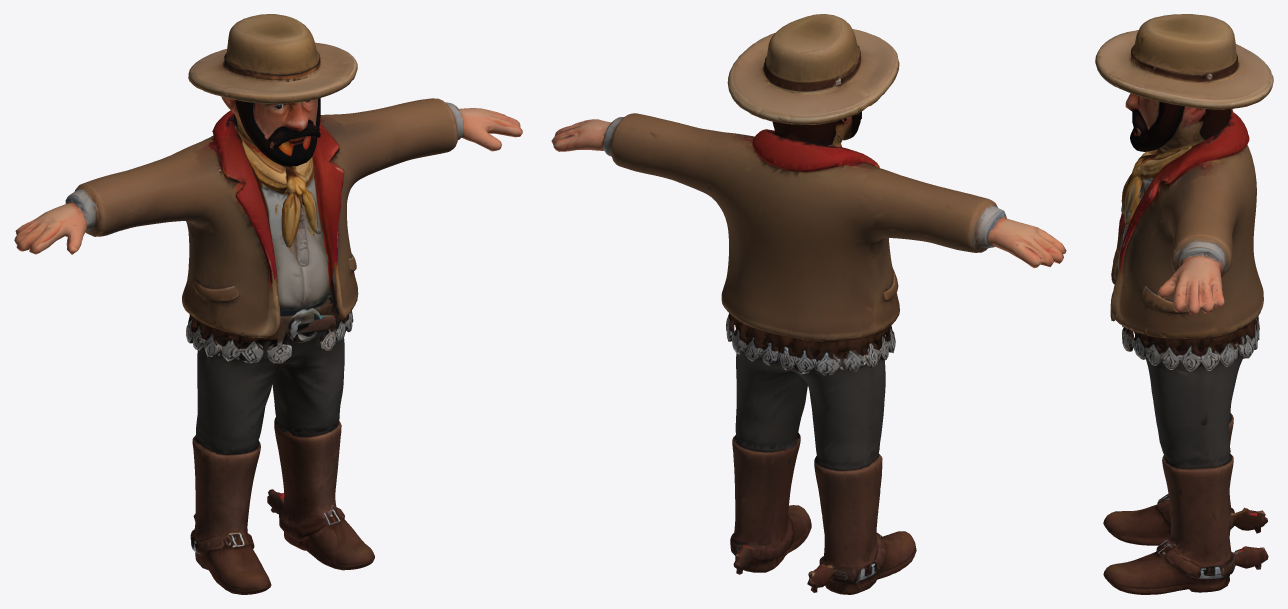
The model's file is gaucho_3.glb.
3 views of the same model, side by side, from view 1: azimuth 30°, elevation 25°; view 2: azimuth 150°, elevation 25°; view 3: azimuth 270°, elevation 25° (orthographic).
Visible parts, largest first — view 1: gaucho_3; view 2: gaucho_3; view 3: gaucho_3.
Boxes of the visible parts, bbox=[...] form: gaucho_3: bbox=[14, 14, 522, 594]; gaucho_3: bbox=[551, 14, 1066, 594]; gaucho_3: bbox=[1095, 14, 1273, 594].
Size of the model in its own units: 1.69 by 1.72 by 0.5152.
Materials: 1 (1 with a texture image).
